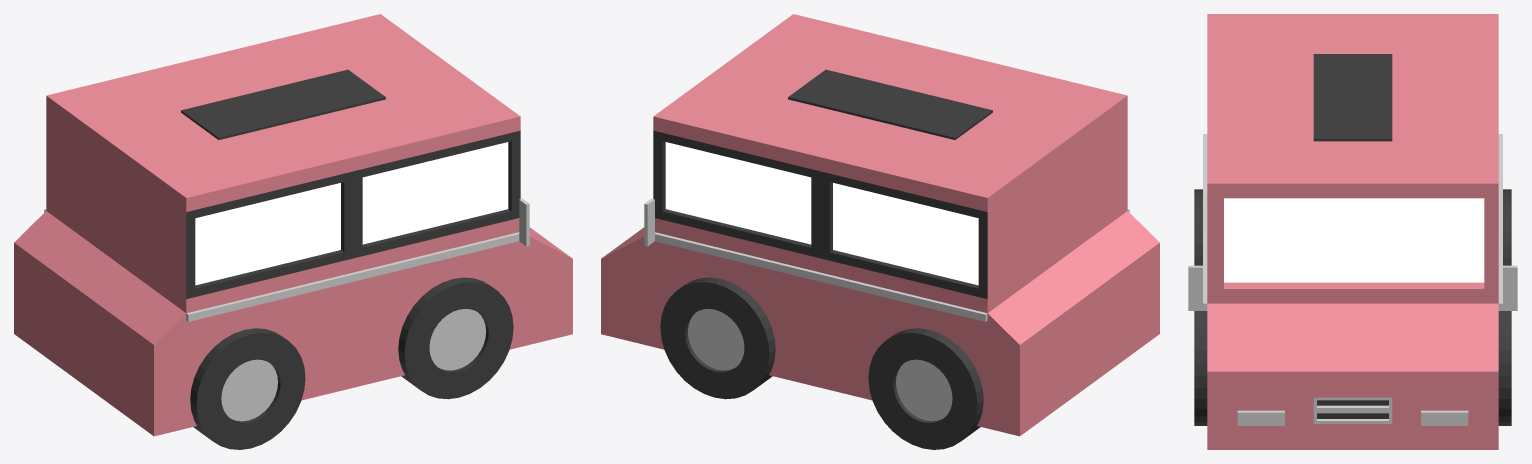
Rendered from Car 2.5.fbx.
The picture shows the model from 3 angles, left to right: view 1: azimuth 30°, elevation 25°; view 2: azimuth 150°, elevation 25°; view 3: azimuth 270°, elevation 25°; orthographic projection. The views are drawn at different scales.
Parts seen in each view (by area): view 1: Car_1.005; view 2: Car_1.005; view 3: Car_1.005.
Boxes of the visible parts, x1,y1,x2,y2 form: Car_1.005: [14, 14, 572, 449]; Car_1.005: [601, 14, 1159, 449]; Car_1.005: [1188, 14, 1517, 449].
Size of the model in its own units: 384 by 228 by 249.
